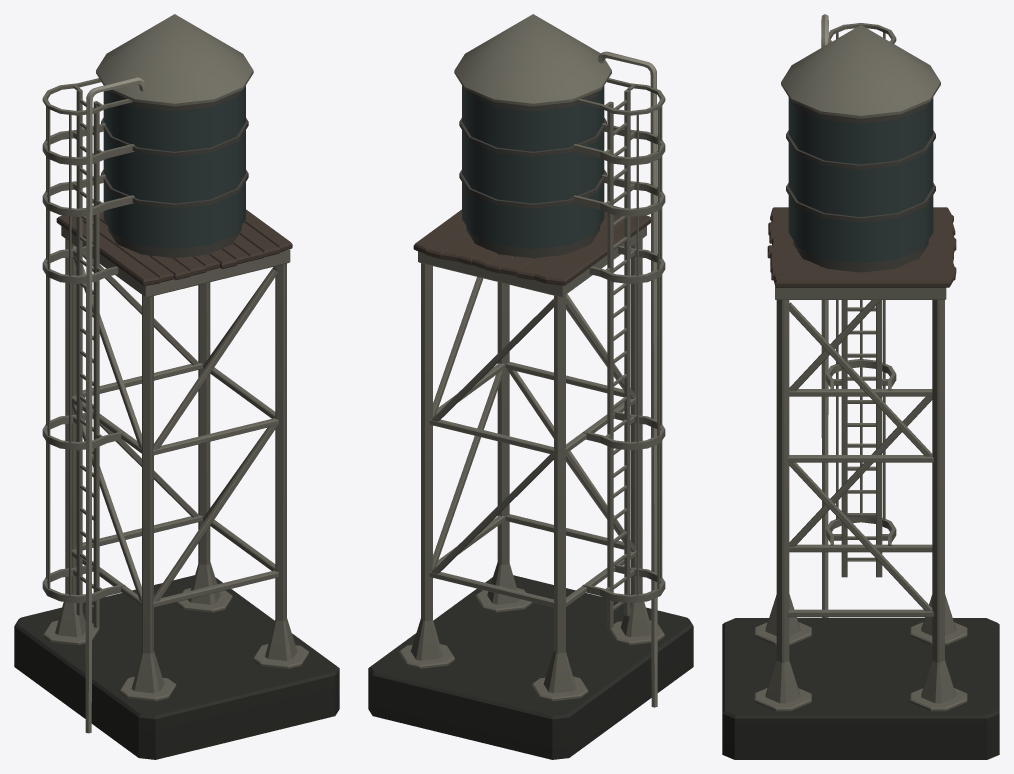
The model's file is farm_tower_1.glb.
The picture shows the model from 3 angles, left to right: view 1: azimuth 30°, elevation 25°; view 2: azimuth 150°, elevation 25°; view 3: azimuth 270°, elevation 25°; orthographic projection.
Visible parts, largest first — view 1: farm_tower_1; view 2: farm_tower_1; view 3: farm_tower_1.
Part boxes in pixels (box(x1,y1,x2,y2)): farm_tower_1: box(14, 14, 339, 759); farm_tower_1: box(368, 14, 693, 759); farm_tower_1: box(722, 14, 999, 759).
Size of the model in its own units: 2.89 by 8.16 by 2.98.
1 material, 1 textured.
